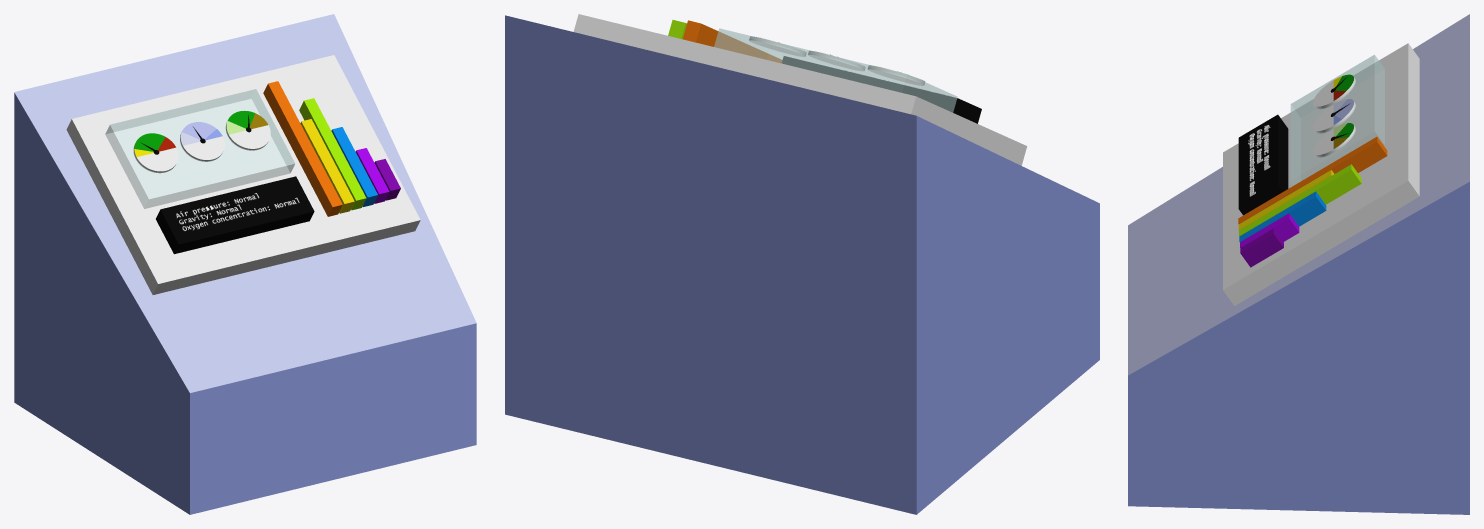
The model's file is GRAPH.fbx.
The picture shows the model from 3 angles, left to right: view 1: azimuth 30°, elevation 25°; view 2: azimuth 150°, elevation 25°; view 3: azimuth 270°, elevation 25°; orthographic projection. The views are drawn at different scales.
Parts seen in each view (by area): view 1: polySurface212; view 2: polySurface212; view 3: polySurface212.
Boxes of the visible parts, x1=… form: polySurface212: x1=14, y1=14, x2=476, y2=514; polySurface212: x1=505, y1=14, x2=1099, y2=514; polySurface212: x1=1128, y1=14, x2=1469, y2=514.
Bounding box in the file's own units: 2.19 × 2.03 × 1.89.
